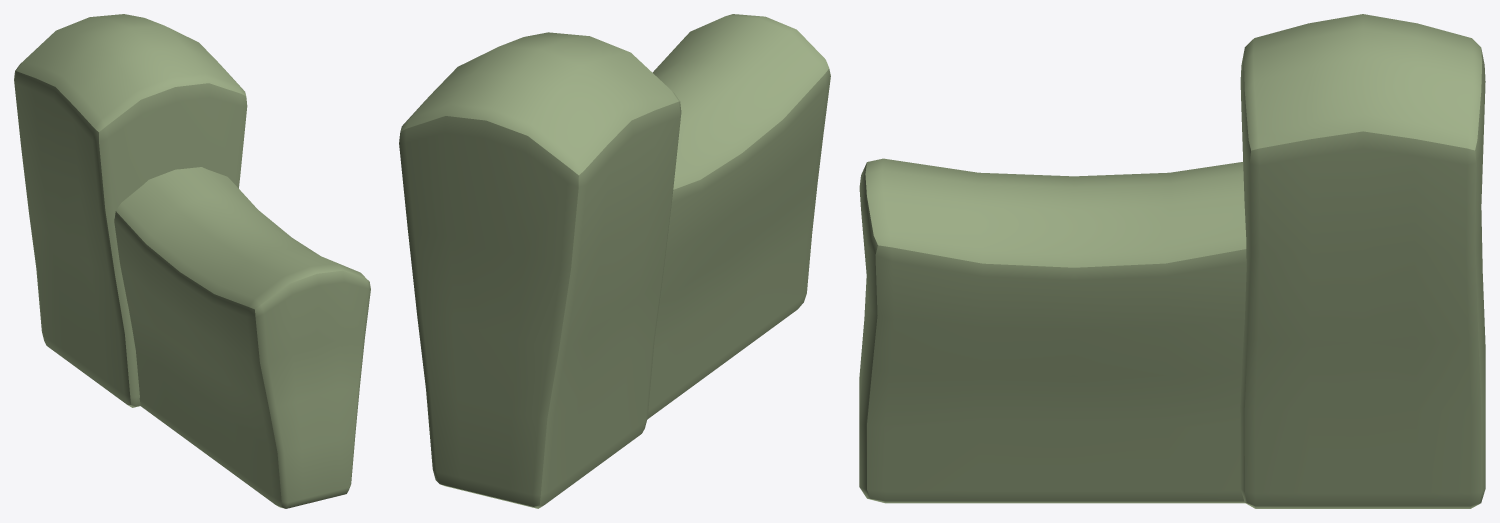
The model's file is PB-Hedge.fbx.
The picture shows the model from 3 angles, left to right: view 1: azimuth 30°, elevation 25°; view 2: azimuth 150°, elevation 25°; view 3: azimuth 270°, elevation 25°; orthographic projection. The views are drawn at different scales.
Visible parts, largest first — view 1: PB_Hedge; view 2: PB_Hedge; view 3: PB_Hedge.
Part boxes in pixels (bbox=[...]): PB_Hedge: bbox=[14, 14, 370, 508]; PB_Hedge: bbox=[399, 14, 830, 508]; PB_Hedge: bbox=[859, 14, 1485, 508].
Bounding box in the file's own units: 124 × 261 × 325.
